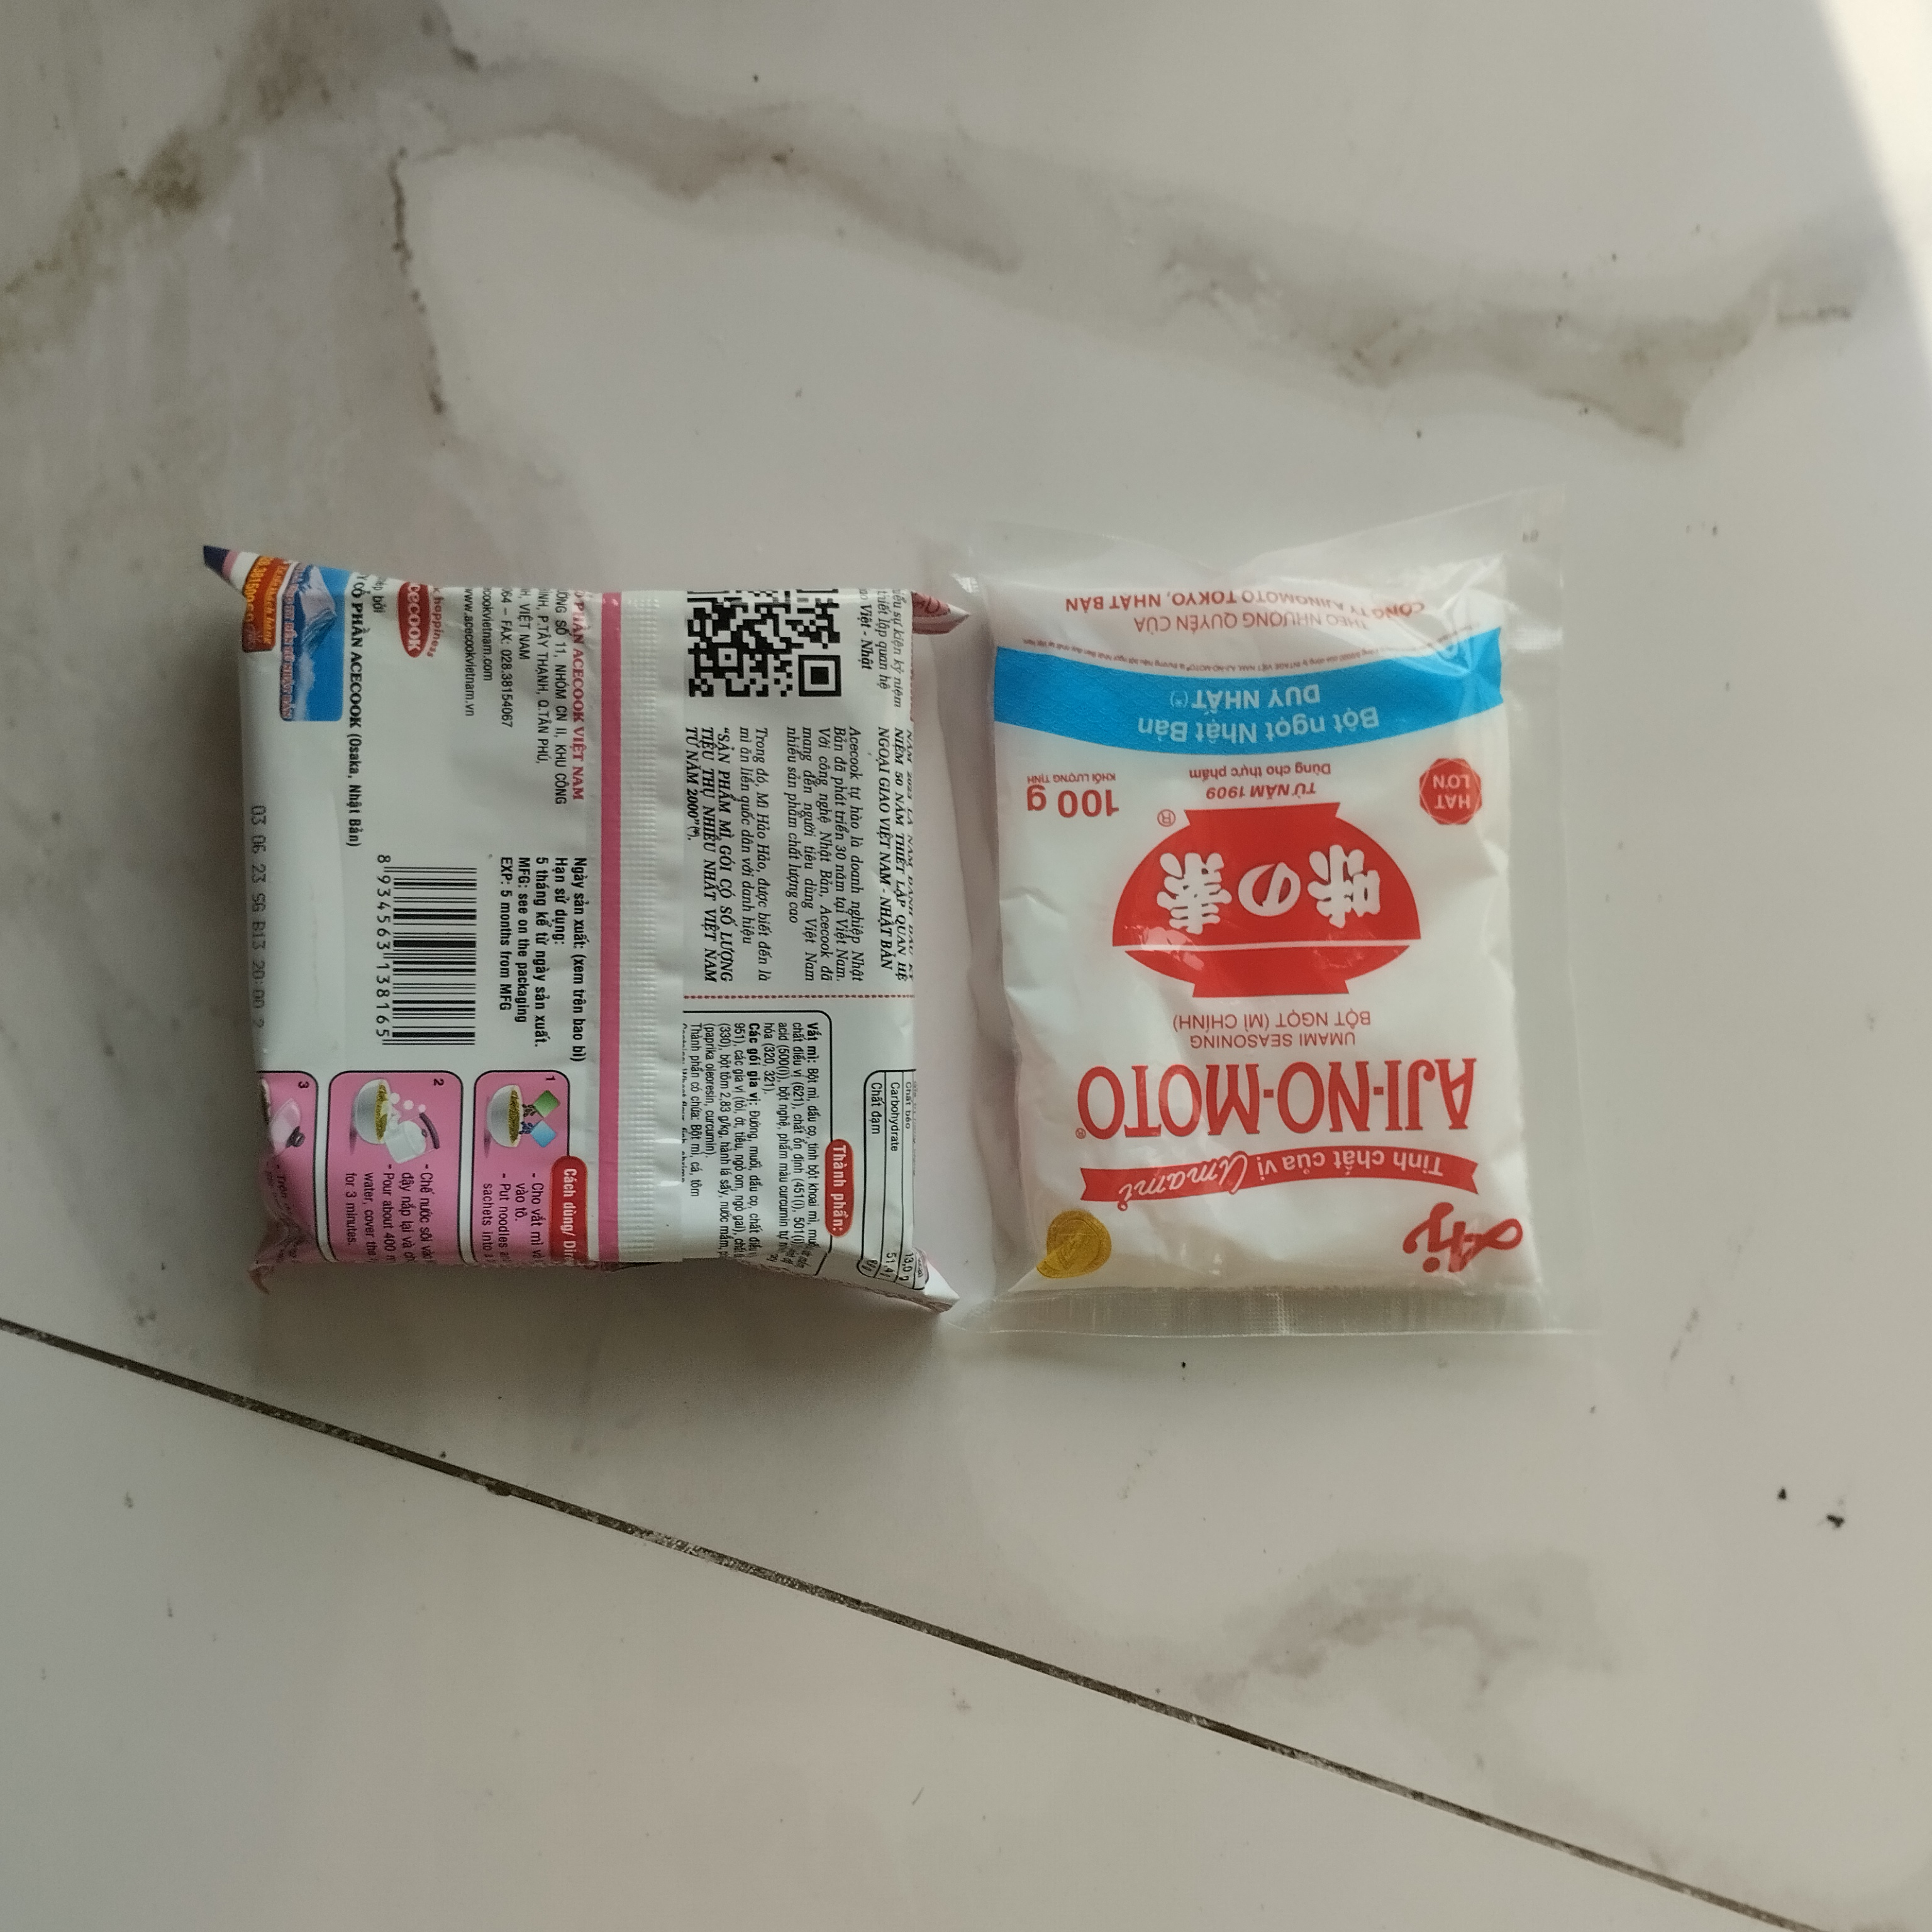Ajinomoto: (941, 487, 1576, 1346)
Haohao: (193, 522, 971, 1322)
